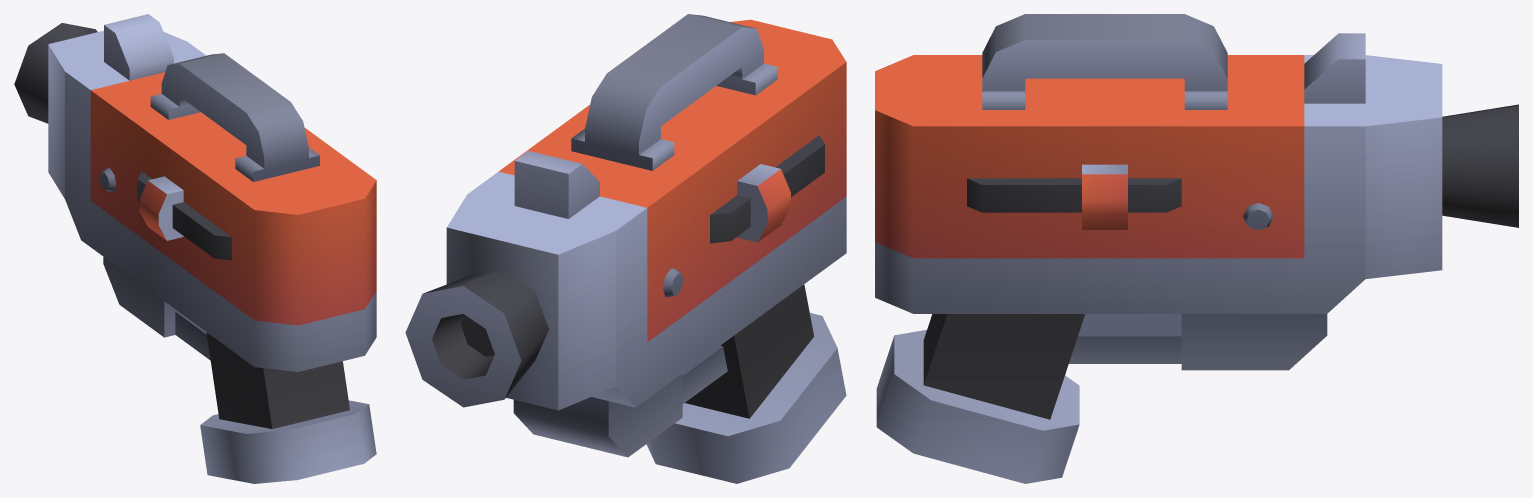
Rendered from kenney-blaster-blaster-b.glb.
3 views of the same model, side by side, from view 1: azimuth 30°, elevation 25°; view 2: azimuth 150°, elevation 25°; view 3: azimuth 270°, elevation 25° (orthographic). The views are drawn at different scales.
Parts seen in each view (by area): view 1: blaster-b; view 2: blaster-b; view 3: blaster-b.
Part boxes in pixels (x1,y1,x2,y2): blaster-b: [14, 14, 376, 483]; blaster-b: [405, 14, 846, 483]; blaster-b: [875, 14, 1518, 483].
Size of the model in its own units: 0.155 by 0.3105 by 0.4201.
1 material, 1 textured.
